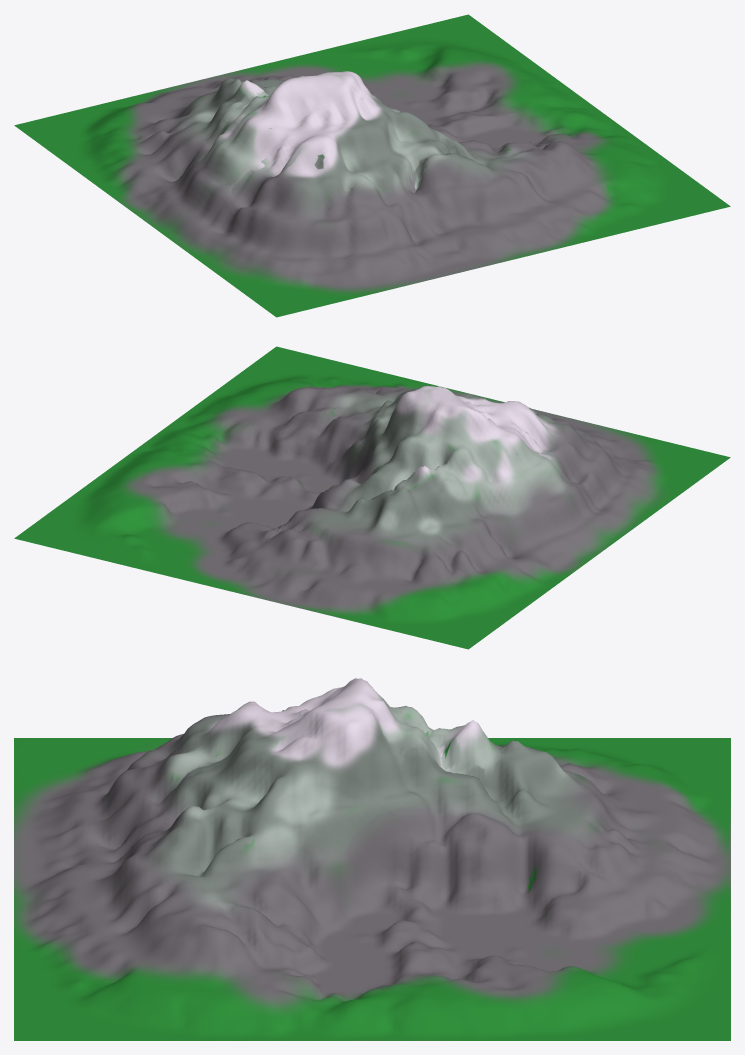
Rendered from terrain.obj.
3 views of the same model, one above another, from view 1: azimuth 30°, elevation 25°; view 2: azimuth 150°, elevation 25°; view 3: azimuth 270°, elevation 25° (orthographic). The views are drawn at different scales.
Visible parts, largest first — view 1: Landscape_Landscape.001; view 2: Landscape_Landscape.001; view 3: Landscape_Landscape.001.
Part boxes in pixels (<box>): Landscape_Landscape.001: <box>14,14,730,317</box>; Landscape_Landscape.001: <box>14,346,730,649</box>; Landscape_Landscape.001: <box>14,678,730,1040</box>.
Bounding box in the file's own units: 2 × 0.4609 × 2.
1 material, 1 textured.
